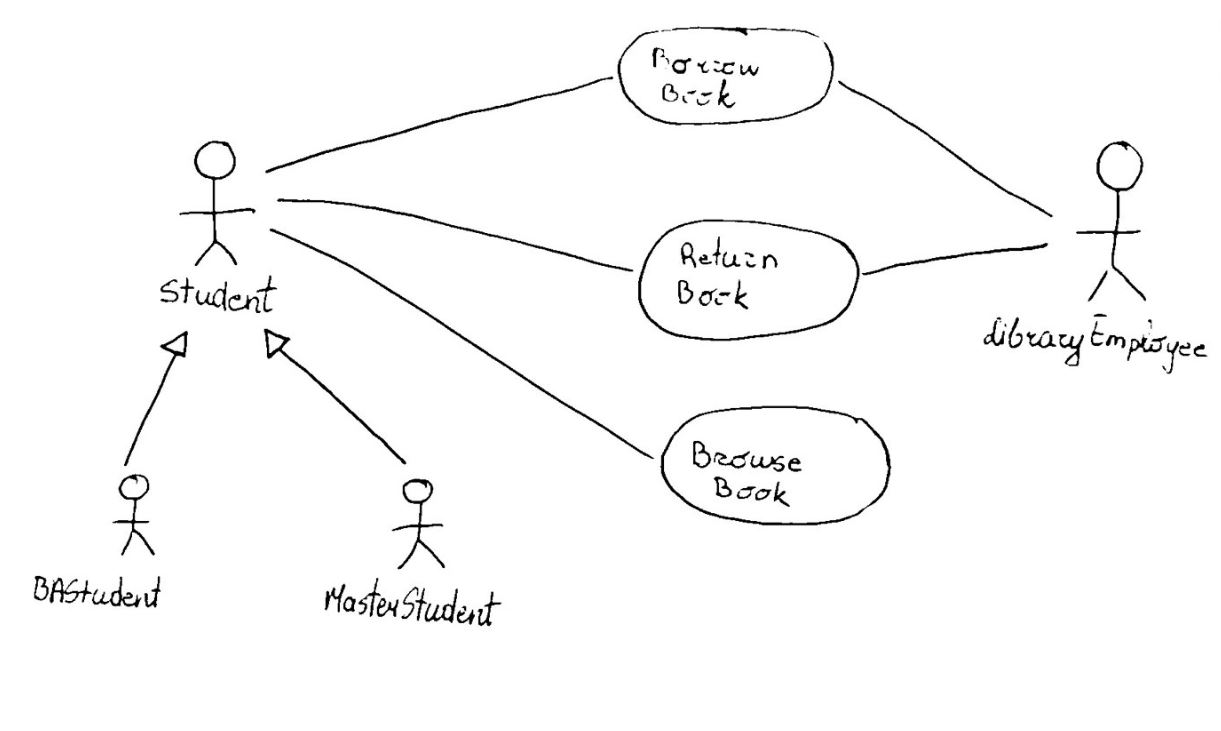actor: (1073, 132, 1170, 306), (178, 134, 257, 271), (107, 471, 176, 565), (391, 469, 452, 572)
association: (271, 228, 661, 464), (266, 68, 615, 173), (837, 74, 1054, 218), (275, 193, 632, 269), (860, 243, 1057, 278)
generalization: (259, 326, 413, 467), (122, 322, 192, 470)
text: (979, 312, 1213, 381), (315, 572, 504, 634), (671, 235, 786, 319), (689, 434, 815, 509), (646, 42, 763, 112), (27, 569, 178, 613), (159, 276, 278, 316)
use_case: (663, 402, 892, 527), (638, 219, 861, 344), (620, 25, 835, 126)
